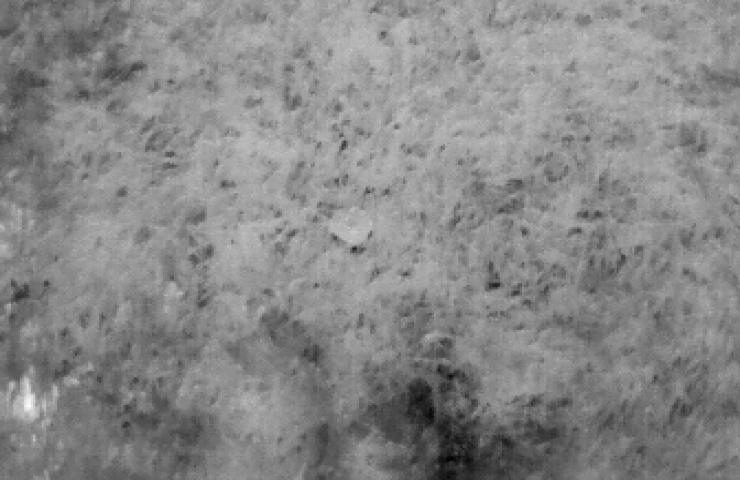landmines: (328, 206, 380, 246)
